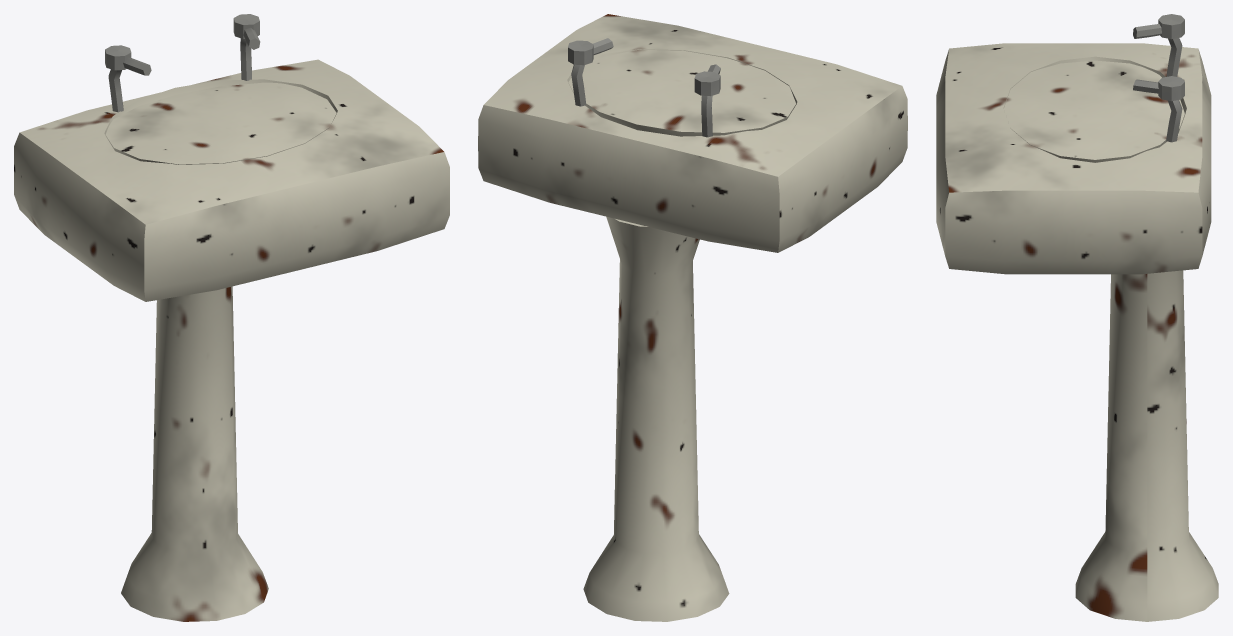
Rendered from PedestalSink.fbx.
3 views of the same model, side by side, from view 1: azimuth 30°, elevation 25°; view 2: azimuth 150°, elevation 25°; view 3: azimuth 270°, elevation 25° (orthographic).
Parts seen in each view (by area): view 1: PedestalSink; view 2: PedestalSink; view 3: PedestalSink.
Boxes of the visible parts, bbox=[...] form: PedestalSink: bbox=[14, 14, 449, 621]; PedestalSink: bbox=[478, 14, 907, 621]; PedestalSink: bbox=[936, 14, 1218, 621].
Bounding box in the file's own units: 0.6 × 0.975 × 0.462.
